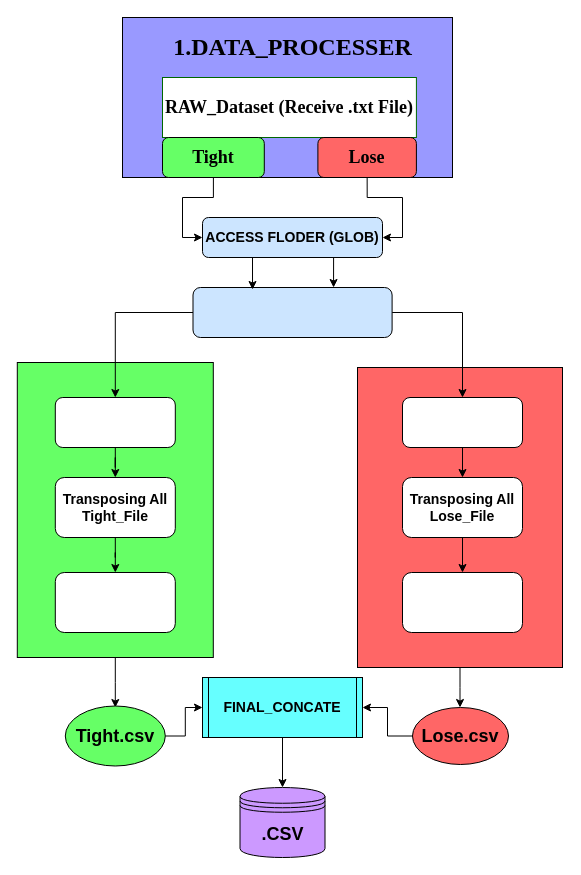
Some shapes in this 581 by 875 pixel diagram are drawn without their labels. The centre of each missing label's shape, as x and y in pixels:
".TXT FILE REAS AS .CSV" goes at point 292,312.
"Concatenation All Lose file" goes at point 114,602.
"Concatenation All Tight_file" goes at point 462,602.
"LABELING (0)" goes at point 462,422.
"LABELING (1)" goes at point 114,422.
